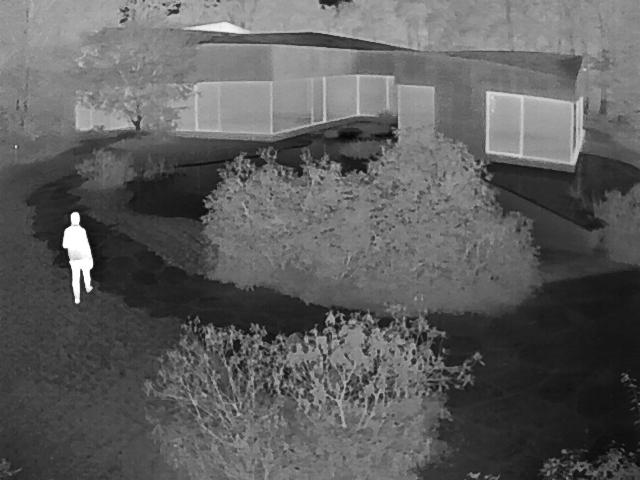person: (65, 211, 97, 302)
